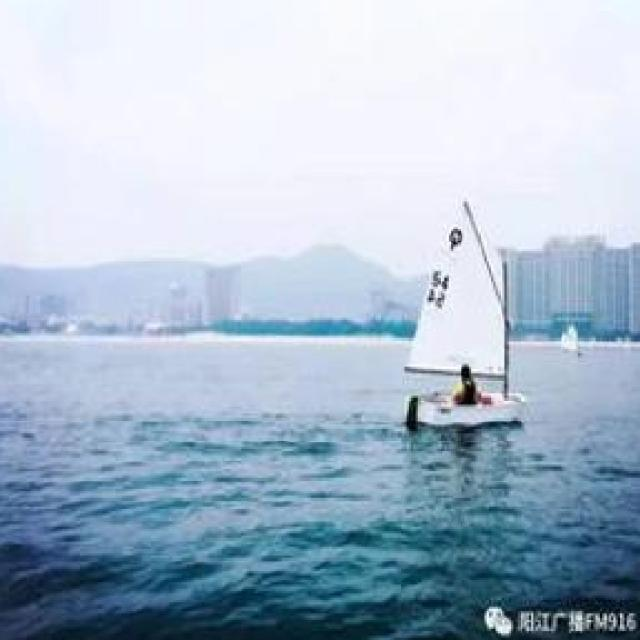sailboat: (392, 189, 540, 449)
